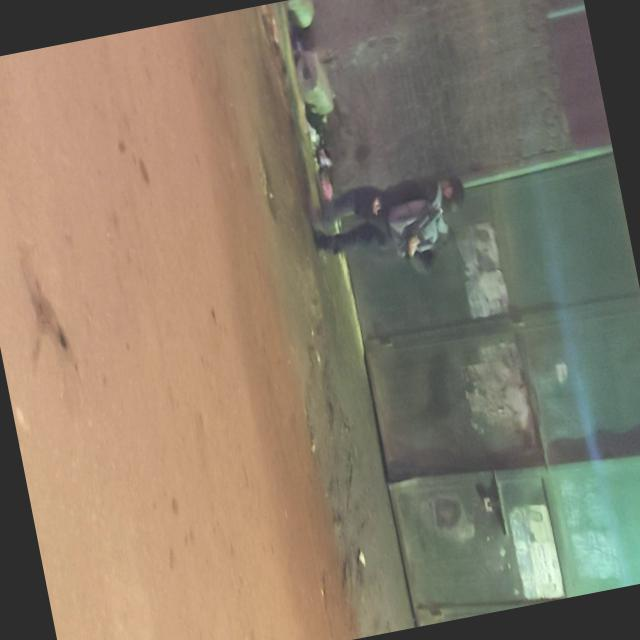long weapon: (388, 195, 452, 268)
